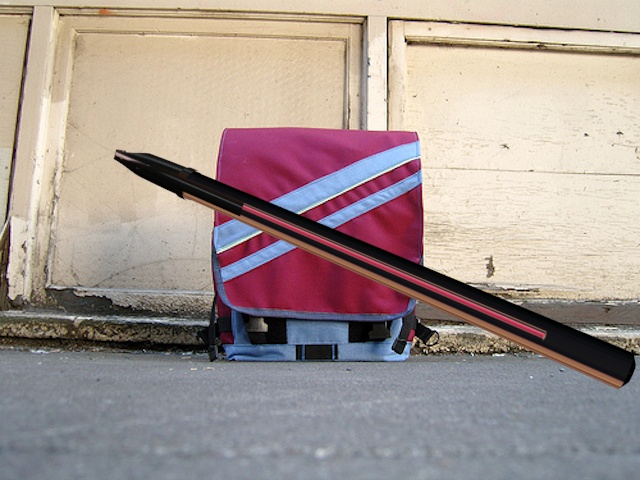pen: (113, 145, 640, 401)
